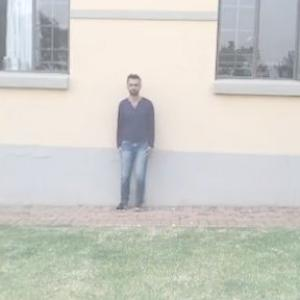follow: (116, 72, 157, 213)
